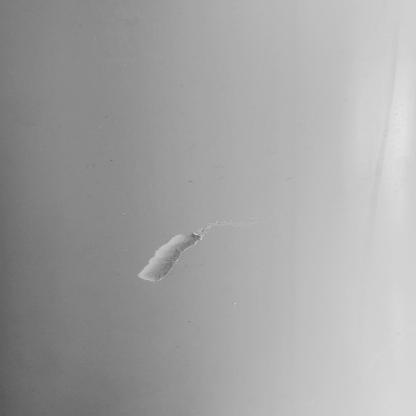sunshang: (136, 231, 203, 284)
